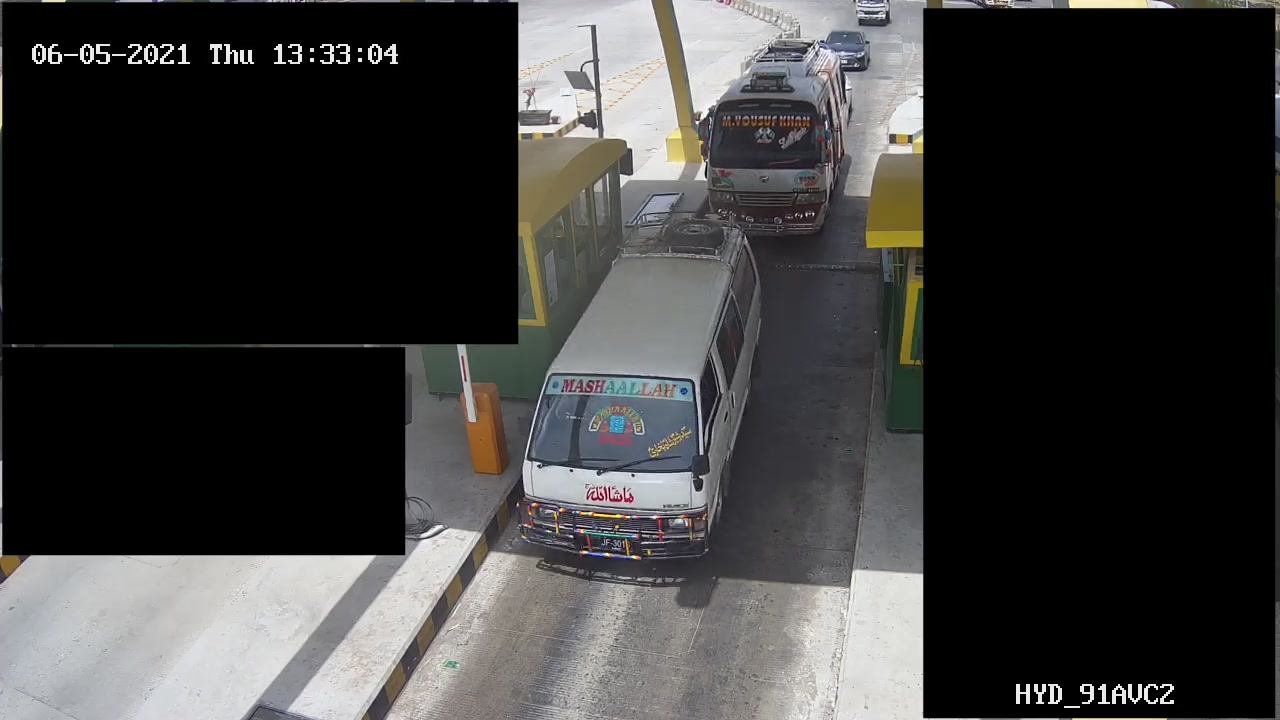F2: (507, 207, 764, 562)
